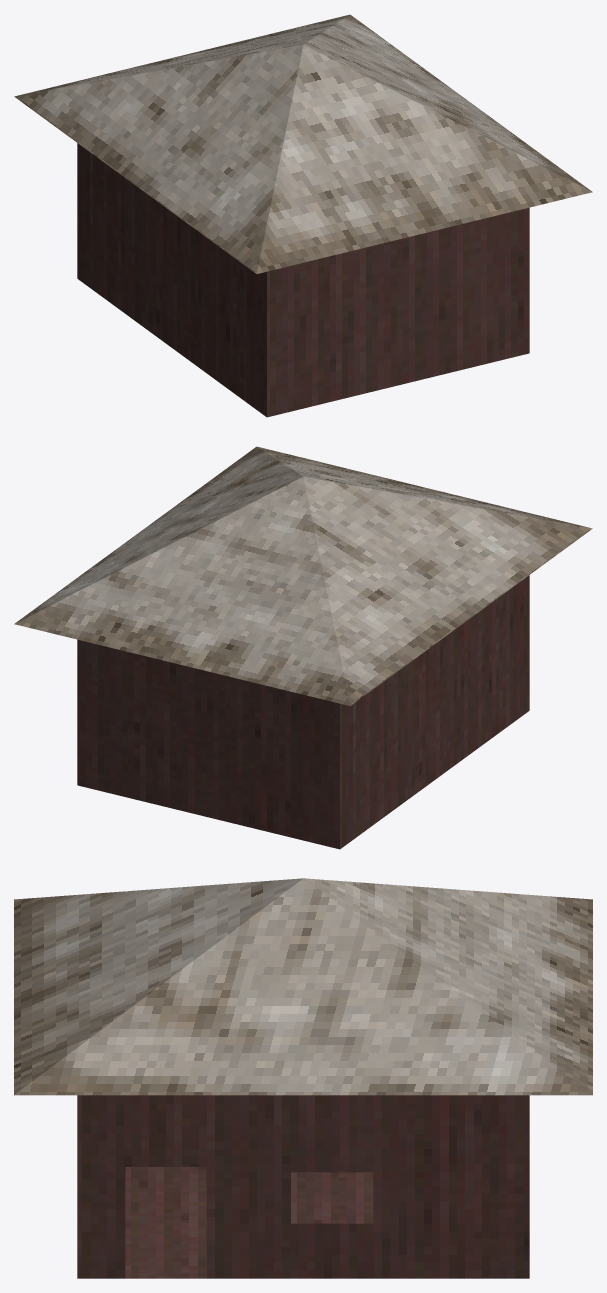
Rendered from cabin.glb.
3 renders of one model, top to bottom at view 1: azimuth 30°, elevation 25°; view 2: azimuth 150°, elevation 25°; view 3: azimuth 270°, elevation 25°, orthographic. The views are drawn at different scales.
Visible parts, largest first — view 1: House; view 2: House; view 3: House.
Part boxes in pixels (<box>): House: <box>14,14,592,417</box>; House: <box>14,446,592,849</box>; House: <box>14,878,592,1278</box>.
Size of the model in its own units: 6.15 by 4.74 by 7.68.
Materials: 1 (1 with a texture image).
